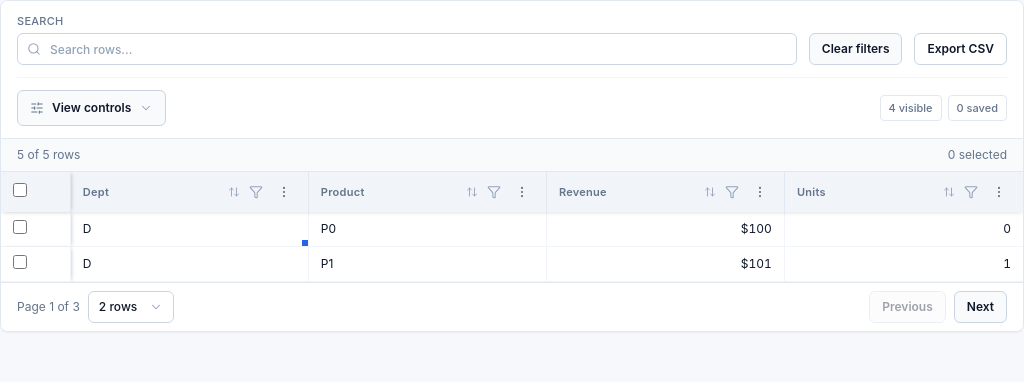
it: DataGrid select-all across pages › offers to select all matching rows when a full page is selected but more match
The width and height of the screenshot is (1024, 382).
Click the checkbox named "Select all visible rows" at {"x": 20, "y": 190}, box [13,183,27,197]
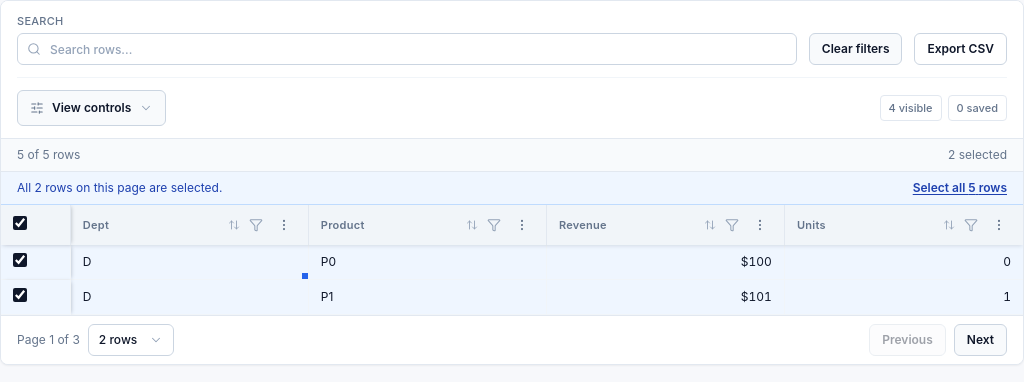
Click the button "Select all 5 rows" at {"x": 960, "y": 188}, box [913,180,1007,196]
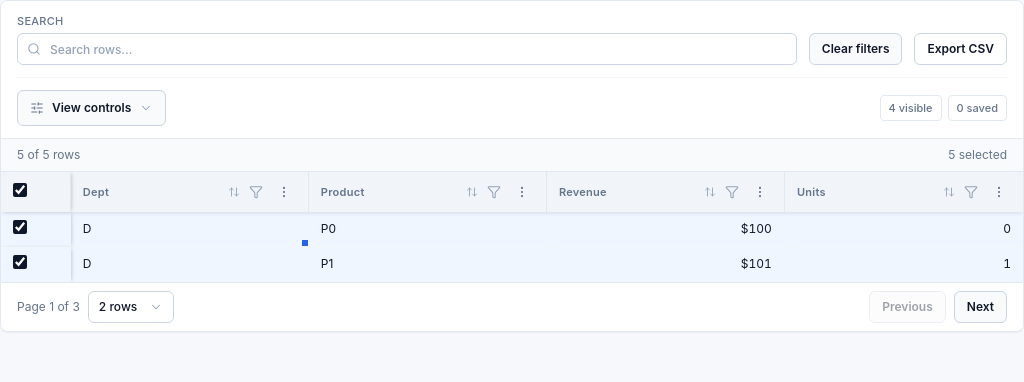
Expected: the text "5 selected" is shown, [948,147,1007,163]
